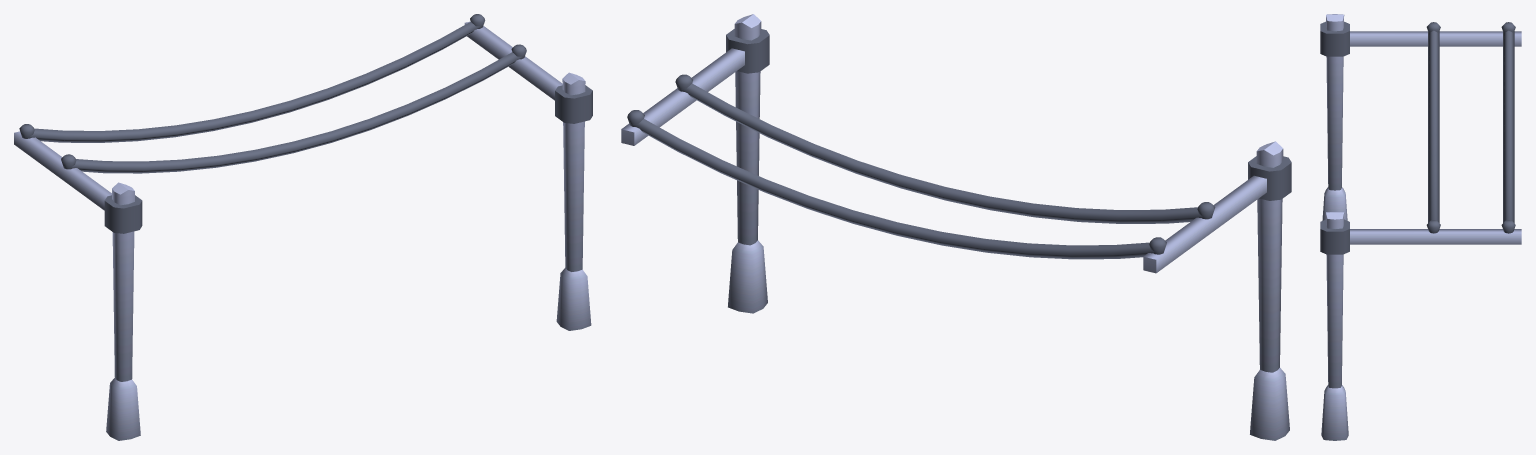
The model's file is electricity-side-wide.glb.
3 renders of one model, left to right at view 1: azimuth 30°, elevation 25°; view 2: azimuth 150°, elevation 25°; view 3: azimuth 270°, elevation 25°, orthographic. The views are drawn at different scales.
Parts seen in each view (by area): view 1: electricity-side-wide; view 2: electricity-side-wide; view 3: electricity-side-wide.
Boxes of the visible parts, box(x1,y1,x2,y2) form: electricity-side-wide: box(14, 14, 592, 440); electricity-side-wide: box(621, 14, 1291, 440); electricity-side-wide: box(1320, 14, 1521, 440).
Bounding box in the file's own units: 1.06 × 0.525 × 0.4306.
1 material, 1 textured.
